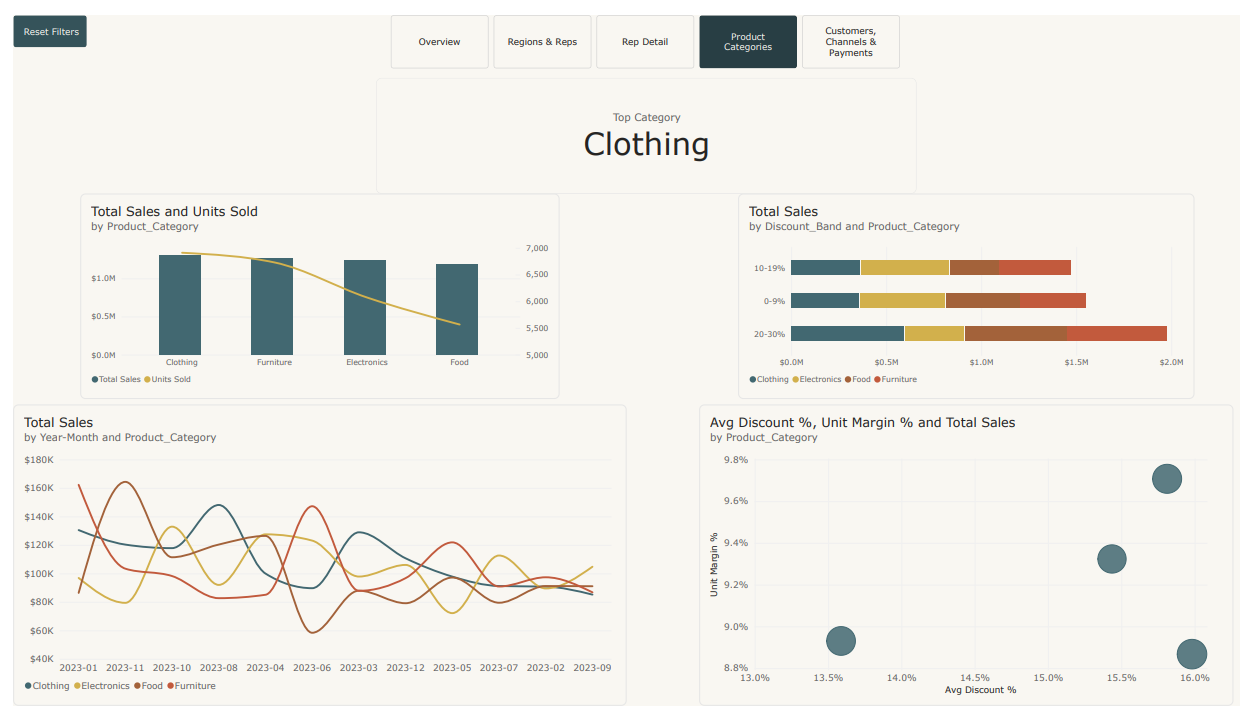

What the dashboard file says about the page in this screenshot:
{"tool":"powerbi","page":{"name":"Product Categories","canvas":[1920,1080],"ordinal":3},"visuals":[{"type":"lineClusteredColumnComboChart","fields":{"Category":["Sales.Product_Category"],"Y":["Sales.Total Sales"],"Y2":["Sales.Units Sold"]},"box":[104.8,279.5,750.4,320.9],"z":0},{"type":"lineChart","fields":{"Category":["Date.Year-Month"],"Series":["Sales.Product_Category"],"Y":["Sales.Total Sales"]},"box":[0,609.4,960,470.9],"z":1000},{"type":"scatterChart","fields":{"Category":["Sales.Product_Category"],"Size":["Sales.Total Sales"],"X":["Sales.Avg Discount %"],"Y":["Sales.Unit Margin %"]},"box":[1073.9,609.4,835.8,470.9],"z":2000},{"type":"barChart","fields":{"Category":["Sales.Discount_Band"],"Series":["Sales.Product_Category"],"Y":["Sales.Total Sales"]},"box":[1134.7,279.5,714.2,320.9],"z":3000},{"type":"cardVisual","fields":{"Data":["Sales.Top Category"]},"box":[568,98.3,846.1,181.1],"z":4000},{"type":"pageNavigator","box":[591.3,0,799.6,82.8],"z":5001},{"type":"actionButton","box":[0,0,115.3,50.4],"z":5003}]}

Visuals, with their boxes in screenshot pixels (x1, y1, x2, y2), scaled from the page's 1920x1080 canvas onto the 1253x720 screenshot:
lineClusteredColumnComboChart - Sales.Product_Category x Sales.Total Sales: bbox(68, 186, 558, 400)
lineChart - Date.Year-Month x Sales.Product_Category: bbox(0, 406, 626, 719)
scatterChart - Sales.Product_Category x Sales.Total Sales: bbox(701, 406, 1246, 719)
barChart - Sales.Discount_Band x Sales.Product_Category: bbox(741, 186, 1207, 400)
cardVisual - Sales.Top Category: bbox(371, 66, 923, 186)
pageNavigator: bbox(386, 0, 908, 55)
actionButton: bbox(0, 0, 75, 34)
